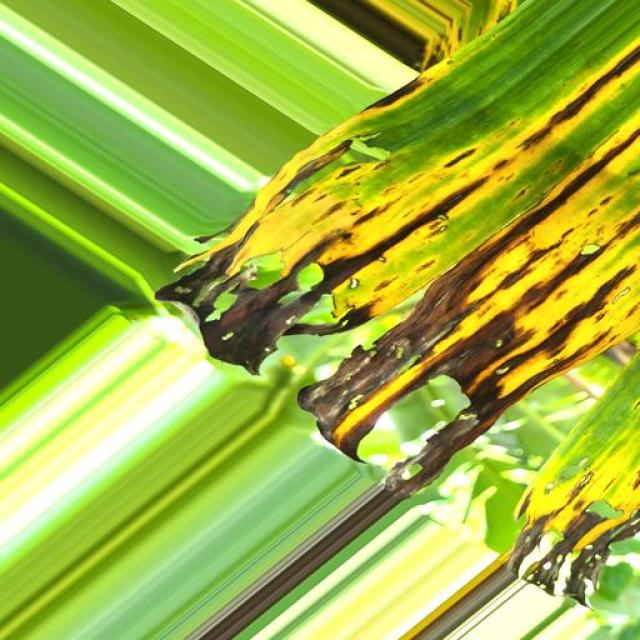Early_rust: (151, 0, 640, 586)
